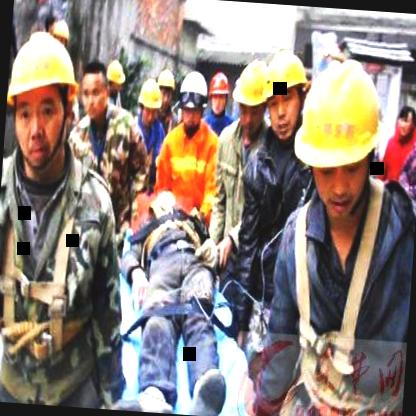head: (80, 58, 116, 126), (390, 102, 416, 143)
helmet: (295, 58, 386, 214), (2, 25, 86, 178), (253, 46, 312, 138), (232, 58, 272, 136), (176, 70, 206, 130), (205, 68, 232, 120), (137, 77, 163, 123), (155, 69, 178, 114), (104, 54, 128, 96)
